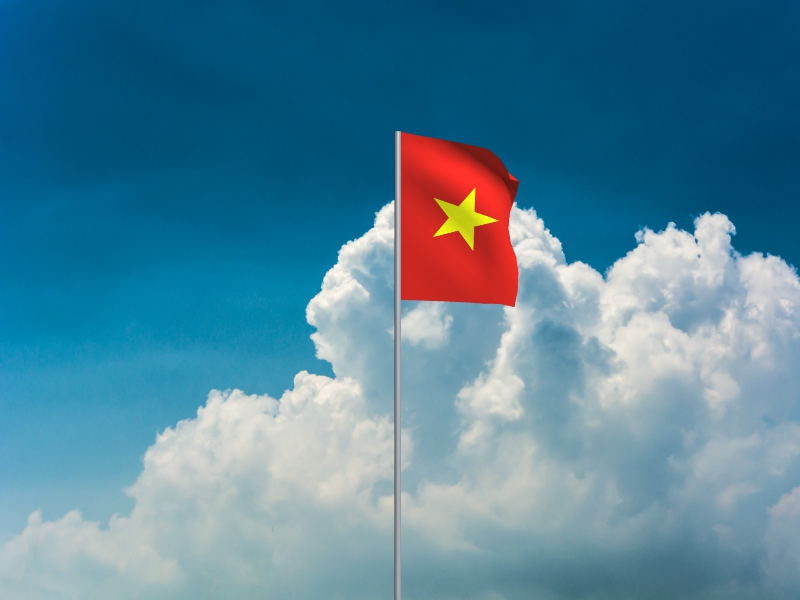vn: (401, 131, 520, 309)
